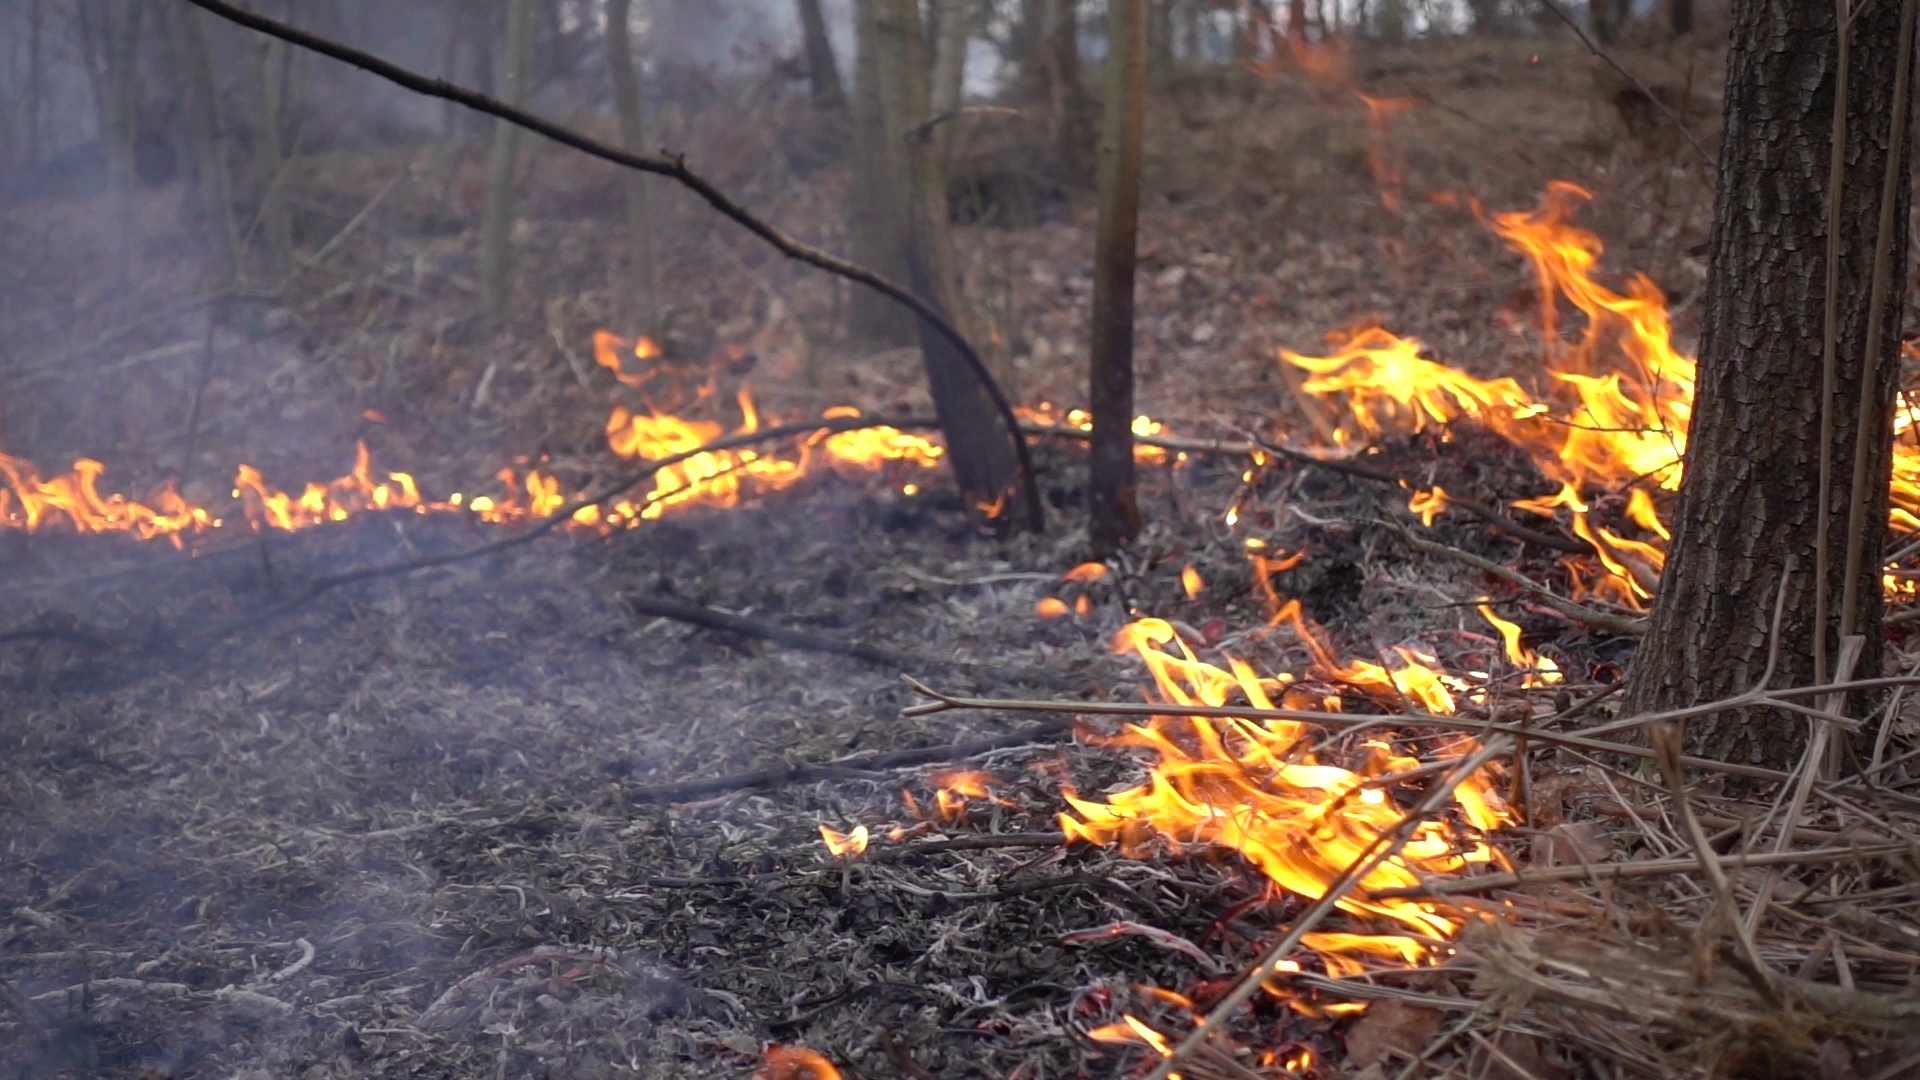fire: (1059, 611, 1557, 1004), (1292, 207, 1697, 600), (599, 400, 799, 517), (1, 462, 206, 543), (229, 454, 421, 541), (820, 402, 939, 496), (1892, 392, 1920, 530), (524, 473, 560, 518)
